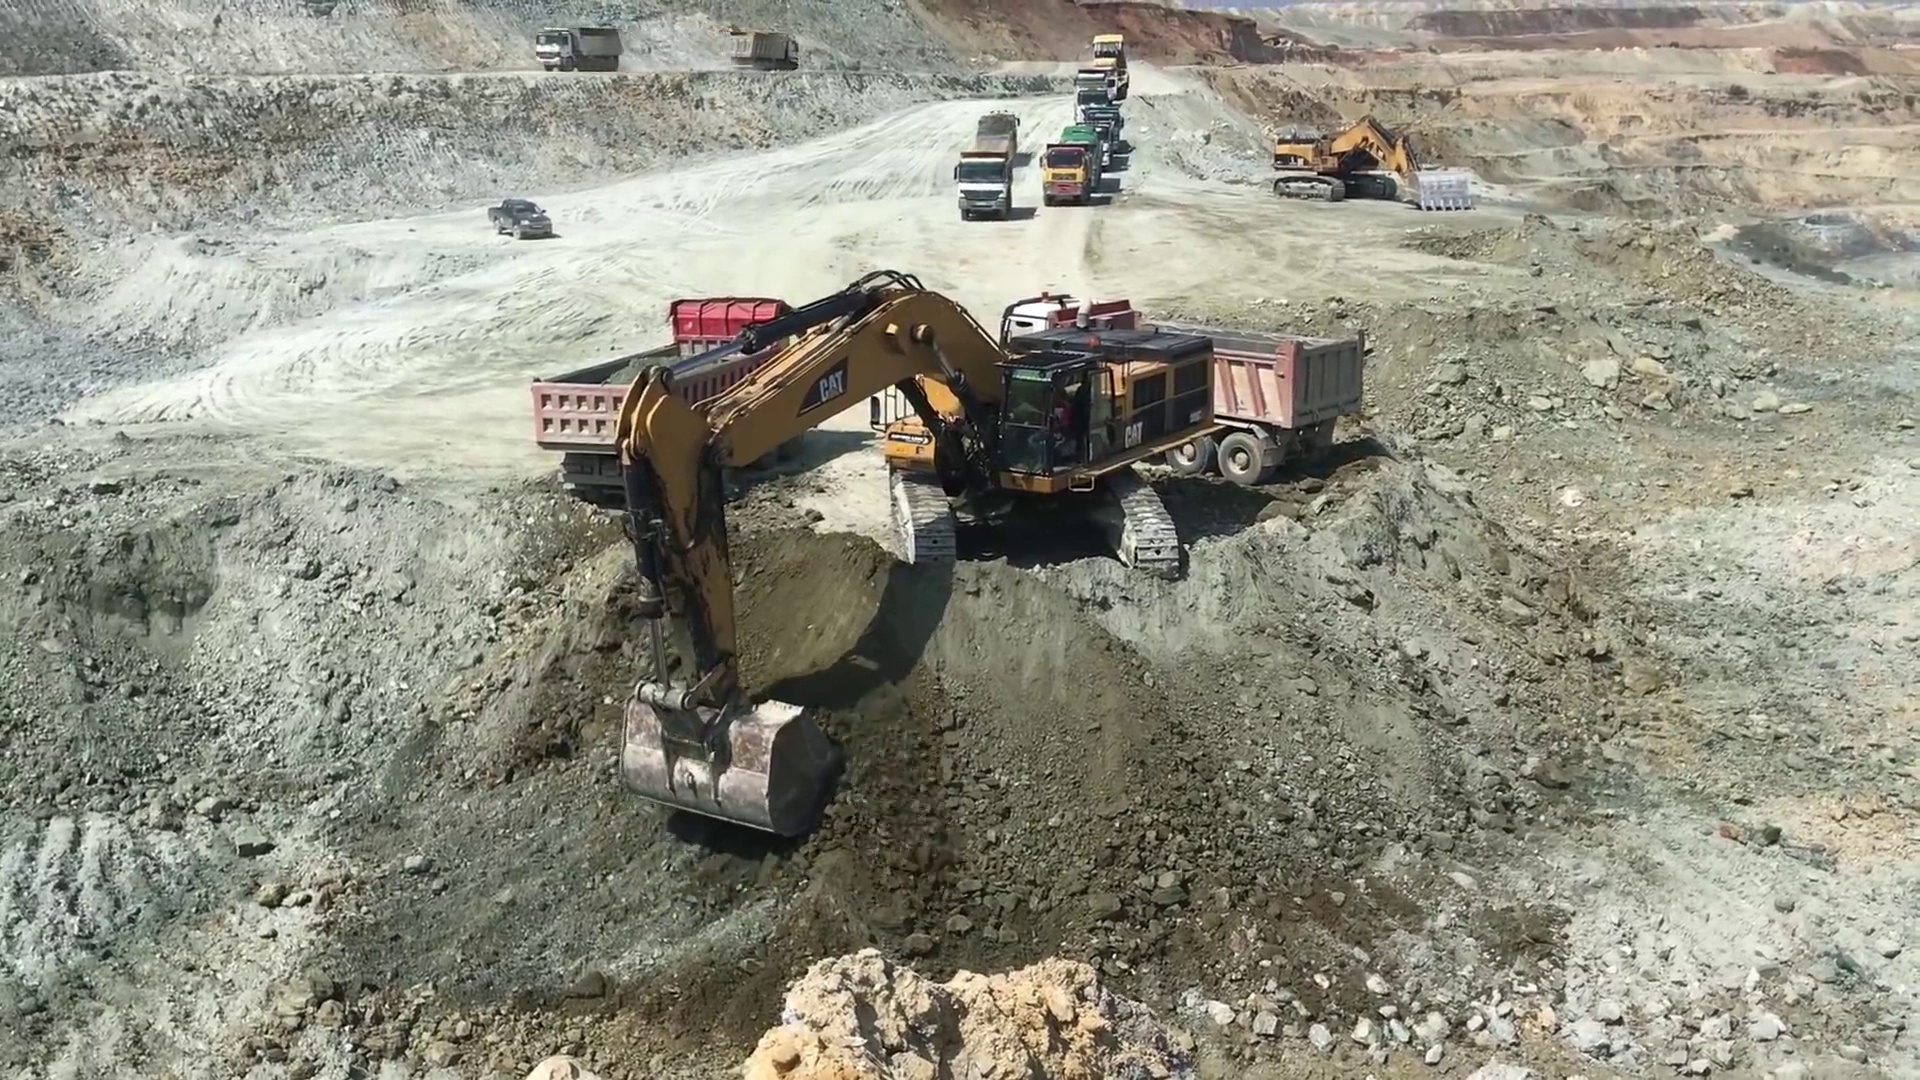excavator: (615, 269, 1229, 847), (1273, 113, 1480, 224)
truck: (1000, 291, 1371, 487), (524, 290, 802, 502), (956, 103, 1021, 214), (727, 18, 807, 79), (531, 17, 625, 69), (1039, 140, 1095, 208)
